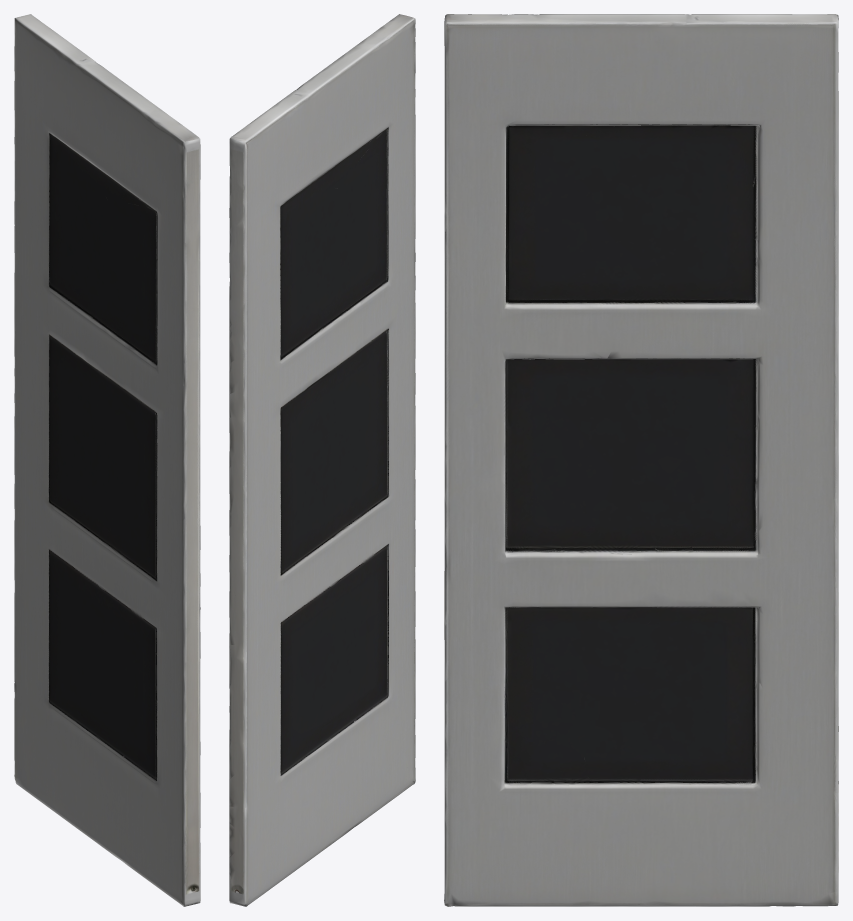
File: Intercom_Panel_0602083606_texture.glb
The picture shows the model from 3 angles, left to right: view 1: azimuth 30°, elevation 25°; view 2: azimuth 150°, elevation 25°; view 3: azimuth 270°, elevation 25°; orthographic projection. The views are drawn at different scales.
Bounding box in the file's own units: 0.0472 × 2.01 × 0.811.
Materials: 1 (1 with a texture image).
